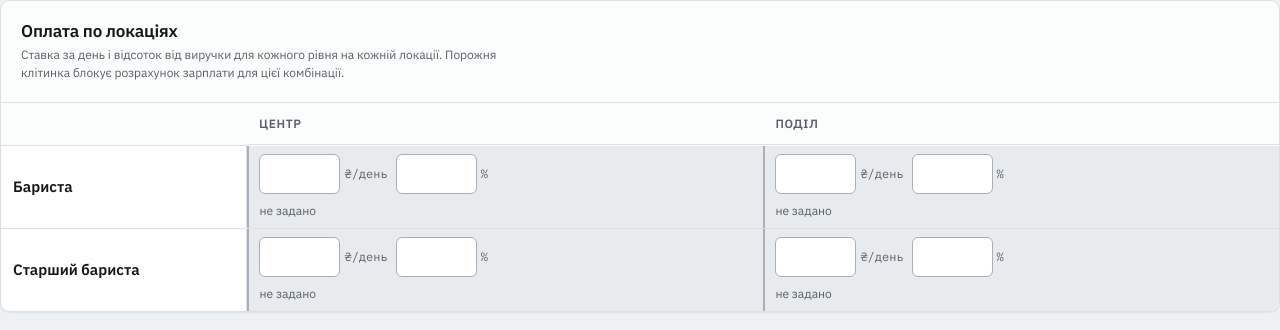
pay matrix › refuses a percent with no rate rather than writing a rate of zero
expect the column heading "Бариста" is shown: met, box x1=1 y1=146 x2=247 y2=228
Type "3" into the field named "% від виручки — Бариста, Центр". click: (436, 174)
box: x1=396 y1=154 x2=477 y2=194
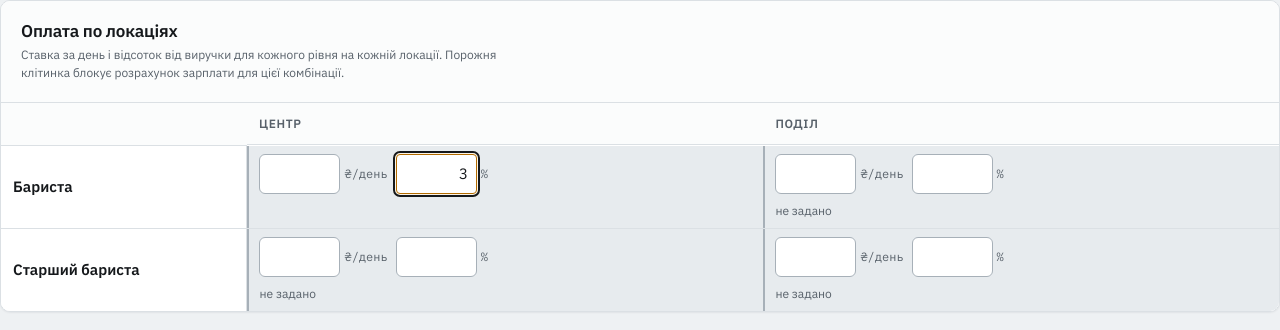
Press Tab
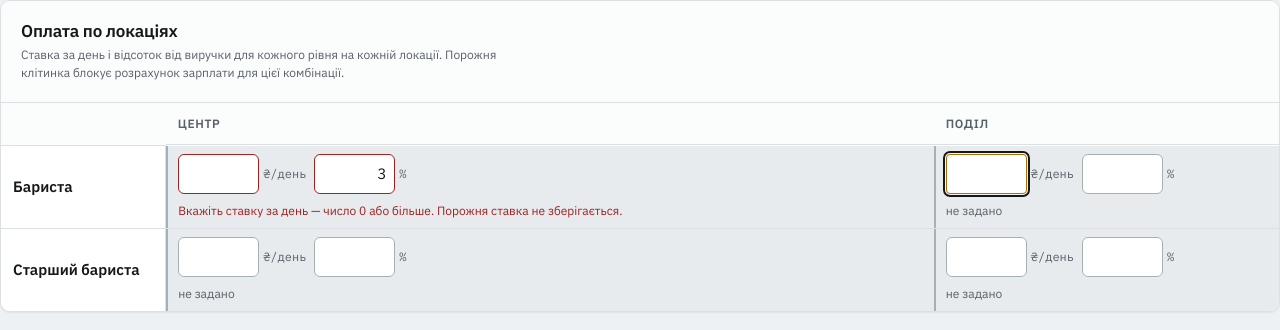
expect the text "Вкажіть ставку за день — число 0 або більше. Порожня ставка не зберігається." is shown: met, box x1=178 y1=203 x2=622 y2=218
